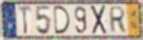5: (34, 5, 53, 36)
9: (74, 6, 88, 35)
D: (52, 5, 71, 35)
R: (109, 6, 127, 35)
T: (17, 5, 32, 35)
X: (90, 4, 108, 36)
